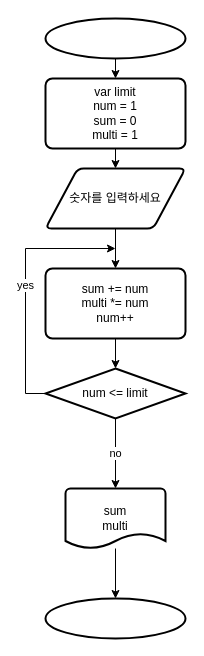
Some shapes in this 204 by 656 pixel diagram are drawn without their labels. Each missing label, with the centre of its shape:
"End" belongs at point (115, 618).
"Start" belongs at point (115, 38).
